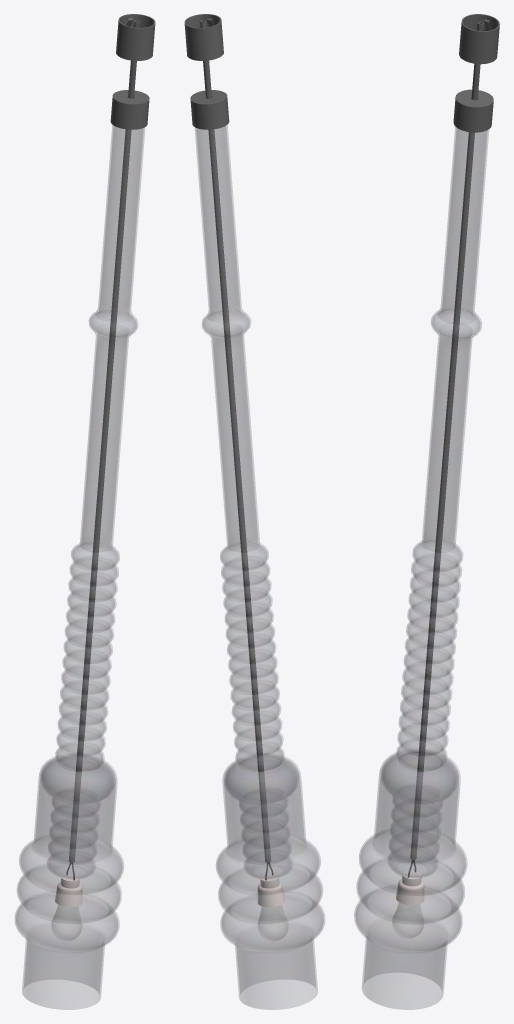
The model's file is svetlo_02.gltf.
The picture shows the model from 3 angles, left to right: view 1: azimuth 30°, elevation 25°; view 2: azimuth 150°, elevation 25°; view 3: azimuth 330°, elevation 25°; orthographic projection. The views are drawn at different scales.
Parts seen in each view (by area): view 1: object_9.016, object_10.016, object_4.017, object_5.014, object_6.015, object_7.015, object_3.019; view 2: object_9.016, object_10.016, object_4.017, object_5.014, object_6.015, object_7.015, object_3.019; view 3: object_9.016, object_10.016, object_4.017, object_5.014, object_6.015, object_7.015, object_3.019.
Part boxes in pixels (x1,y1,x2,y2): object_9.016: (41, 125, 144, 878); object_10.016: (15, 754, 123, 1009); object_4.017: (68, 20, 139, 862); object_5.014: (116, 14, 155, 60); object_6.015: (110, 90, 149, 129); object_7.015: (51, 904, 81, 940); object_3.019: (55, 874, 82, 906); object_9.016: (195, 125, 298, 878); object_10.016: (216, 754, 324, 1009); object_4.017: (200, 20, 271, 862); object_5.014: (184, 14, 223, 60); object_6.015: (190, 90, 229, 129); object_7.015: (258, 904, 288, 940); object_3.019: (257, 874, 284, 906); object_9.016: (382, 127, 488, 877); object_10.016: (354, 750, 467, 1009); object_4.017: (410, 21, 483, 859); object_5.014: (459, 14, 499, 64); object_6.015: (453, 89, 493, 132); object_7.015: (392, 902, 423, 938); object_3.019: (396, 870, 424, 905).
Bounding box in the file's own units: 0.29 × 2.02 × 0.2019.
